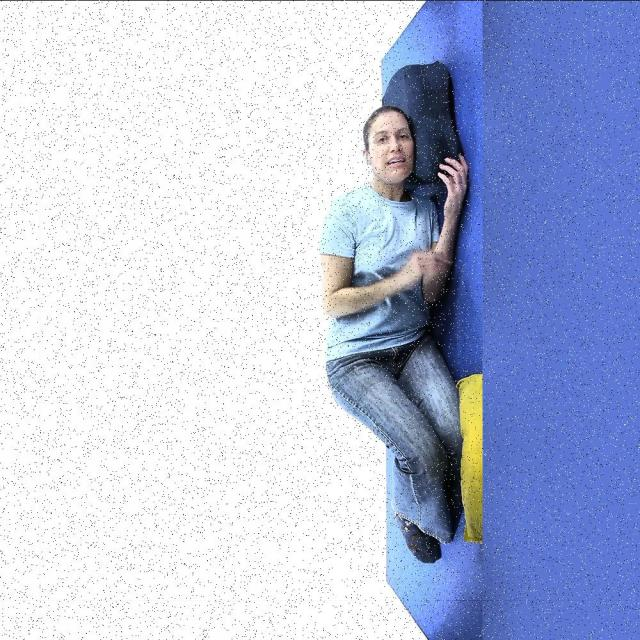Not_Supine: (320, 106, 468, 562)
